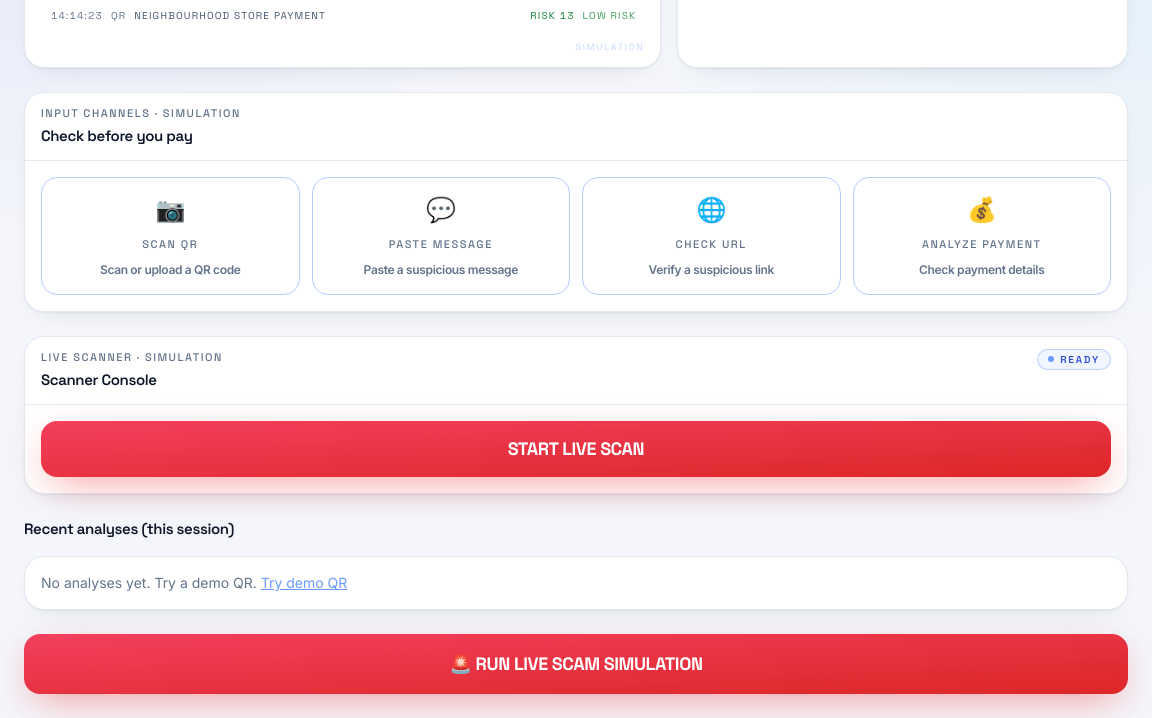
Test: LiveProtection › runs a full scan, shows events and result
(page scrolled)
Click the button "START LIVE SCAN": (576, 449) [41,421,1111,477]
(page scrolled)
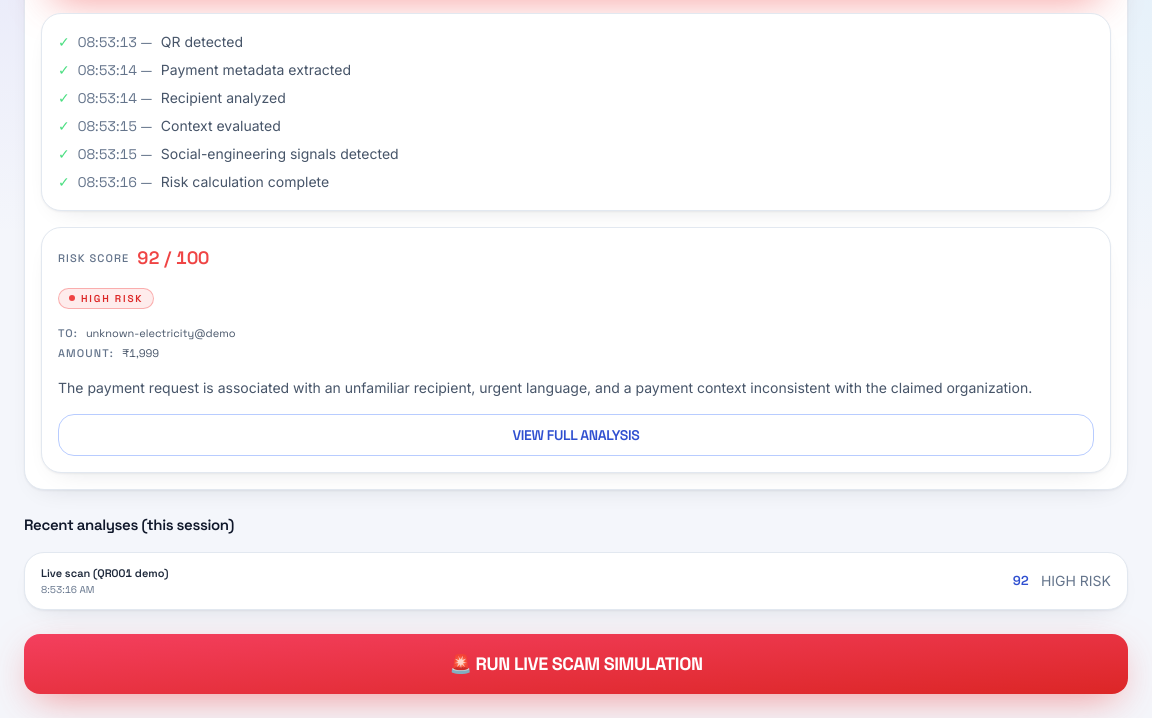
Result: the text "QR detected" is shown at [161,32,243,52]
Result: the text "Payment metadata extracted" is shown at [161,60,351,80]
Result: the text "Recipient analyzed" is shown at [161,88,286,108]
